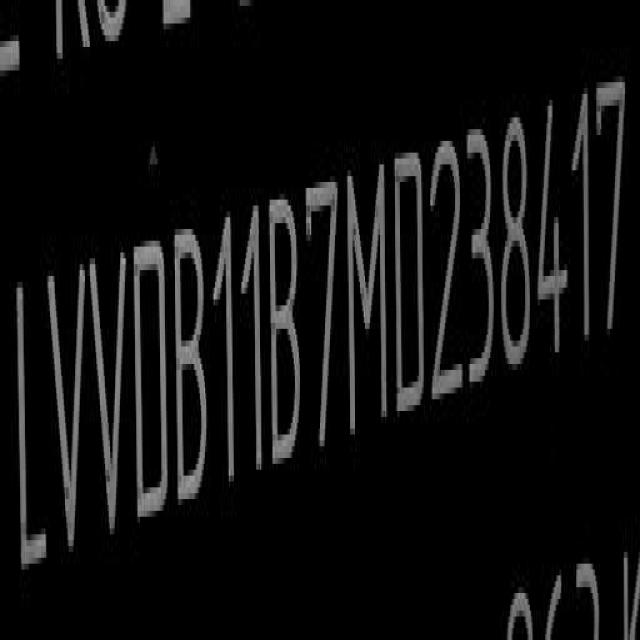1: (213, 215, 239, 487), (242, 211, 265, 485), (572, 80, 592, 340)
2: (429, 139, 464, 405)
3: (467, 115, 495, 396)
4: (537, 102, 569, 361)
7: (305, 178, 340, 442), (595, 70, 625, 346)
8: (500, 109, 531, 376)
B: (173, 219, 210, 506), (268, 189, 303, 463)
D: (128, 237, 170, 524), (393, 141, 424, 420)
L: (16, 278, 52, 568)
M: (347, 163, 390, 426)
V: (86, 237, 127, 542), (48, 259, 87, 561)
